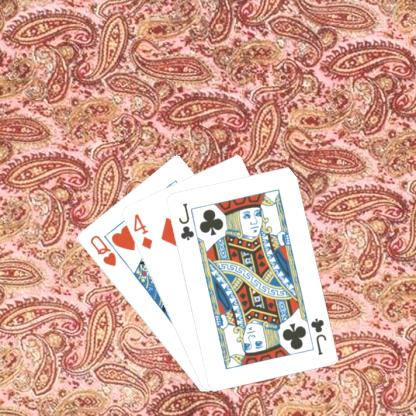4D: (130, 211, 154, 251)
JC: (307, 315, 328, 356), (175, 200, 195, 241)
QH: (87, 232, 117, 268)
